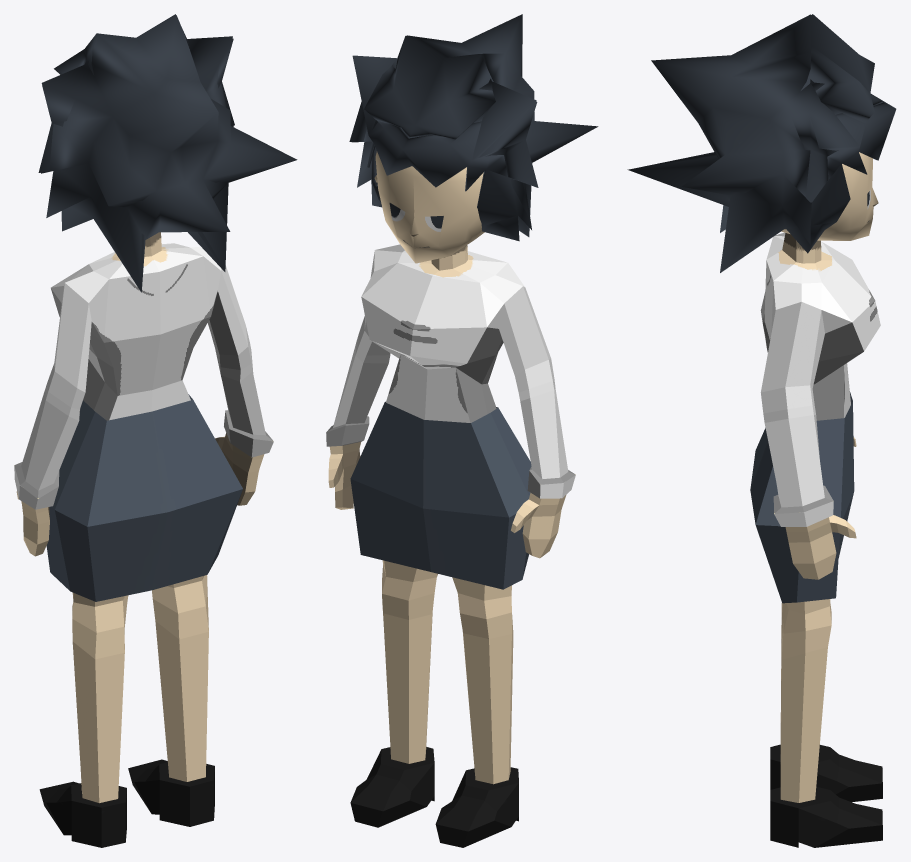
The model's file is F SPIKEY .glb.
The picture shows the model from 3 angles, left to right: view 1: azimuth 30°, elevation 25°; view 2: azimuth 150°, elevation 25°; view 3: azimuth 270°, elevation 25°; orthographic projection. The views are drawn at different scales.
Parts seen in each view (by area): view 1: WOMEN OFFICE, SPIKEY; view 2: WOMEN OFFICE, SPIKEY, WOMEN HEAD; view 3: WOMEN OFFICE, SPIKEY, WOMEN HEAD.
Part boxes in pixels (x1=…): WOMEN OFFICE: x1=14, y1=232, x2=273, y2=847; SPIKEY: x1=38, y1=14, x2=297, y2=292; WOMEN OFFICE: x1=326, y1=244, x2=575, y2=847; SPIKEY: x1=349, y1=14, x2=598, y2=241; WOMEN HEAD: x1=375, y1=151, x2=484, y2=263; WOMEN OFFICE: x1=750, y1=232, x2=882, y2=847; SPIKEY: x1=627, y1=14, x2=896, y2=272; WOMEN HEAD: x1=781, y1=152, x2=878, y2=240.
Bounding box in the file's own units: 3.07 × 9.66 × 3.01.
Materials: 4 (4 with a texture image).
